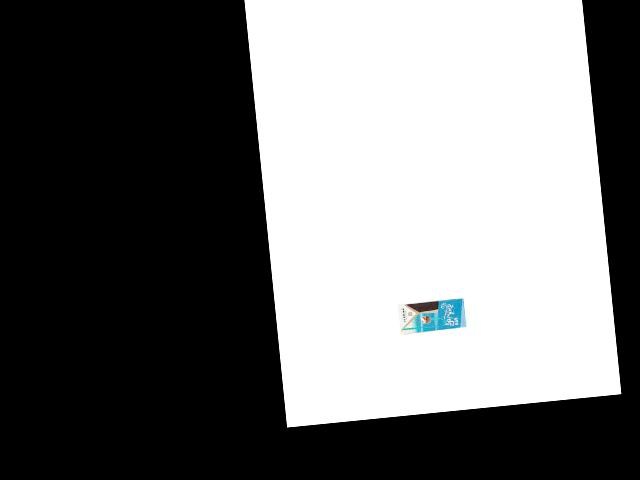chocolate: (395, 296, 467, 335)
